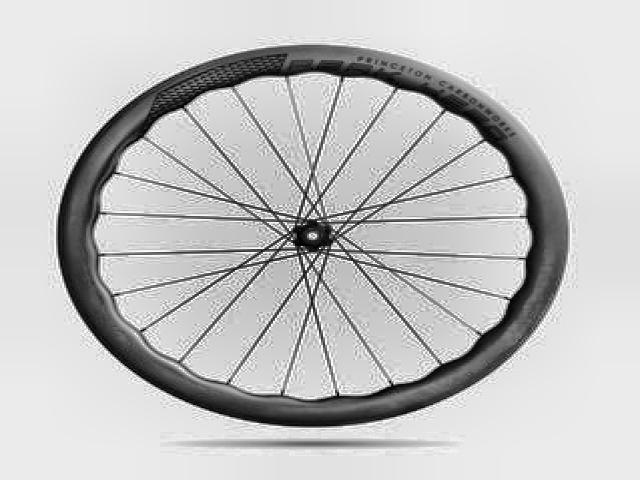wheel: (50, 33, 571, 434)
